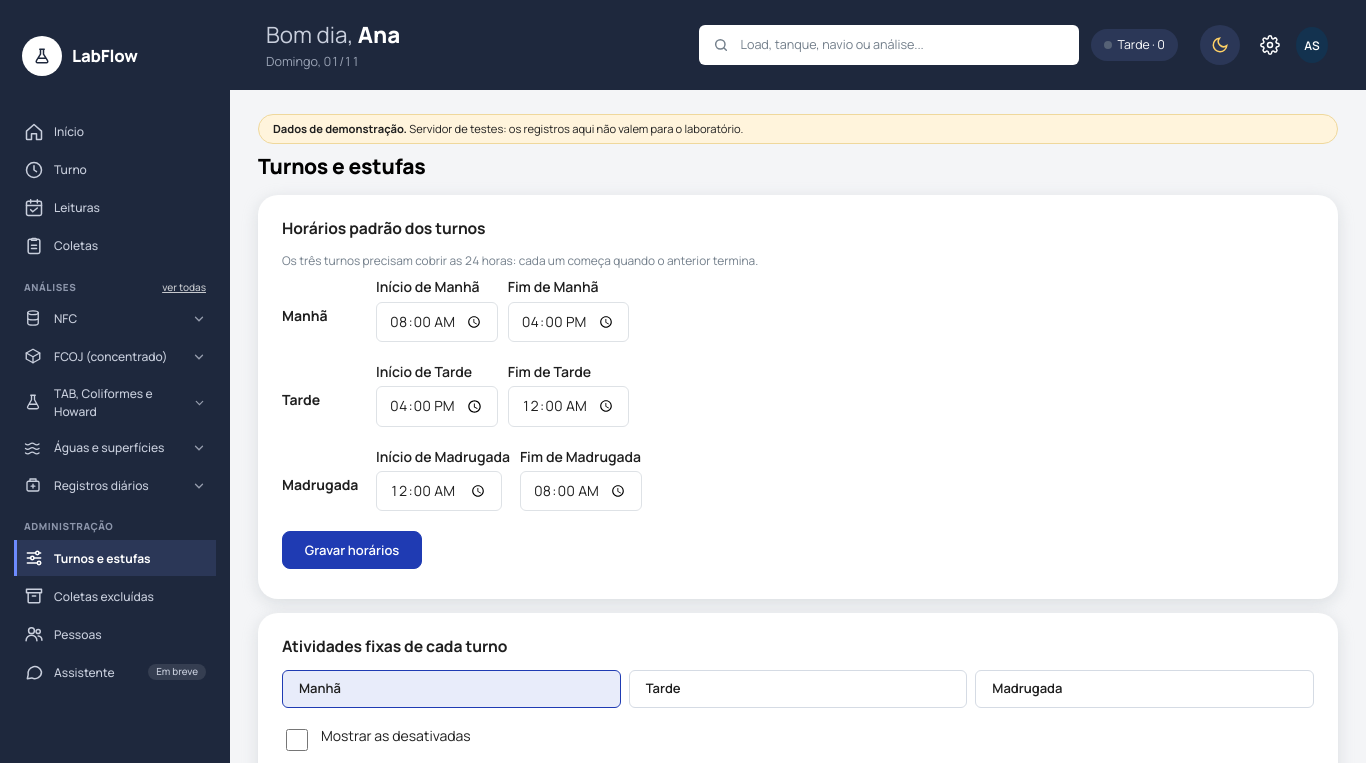
Test case: Admin → Turnos e estufas (APP-028) › lista as atividades do turno (as desativadas só se pedir), com os dias
The width and height of the screenshot is (1366, 763).
Click the checkbox labelled "Mostrar as desativadas" at (297, 740), box [286,729,308,751]
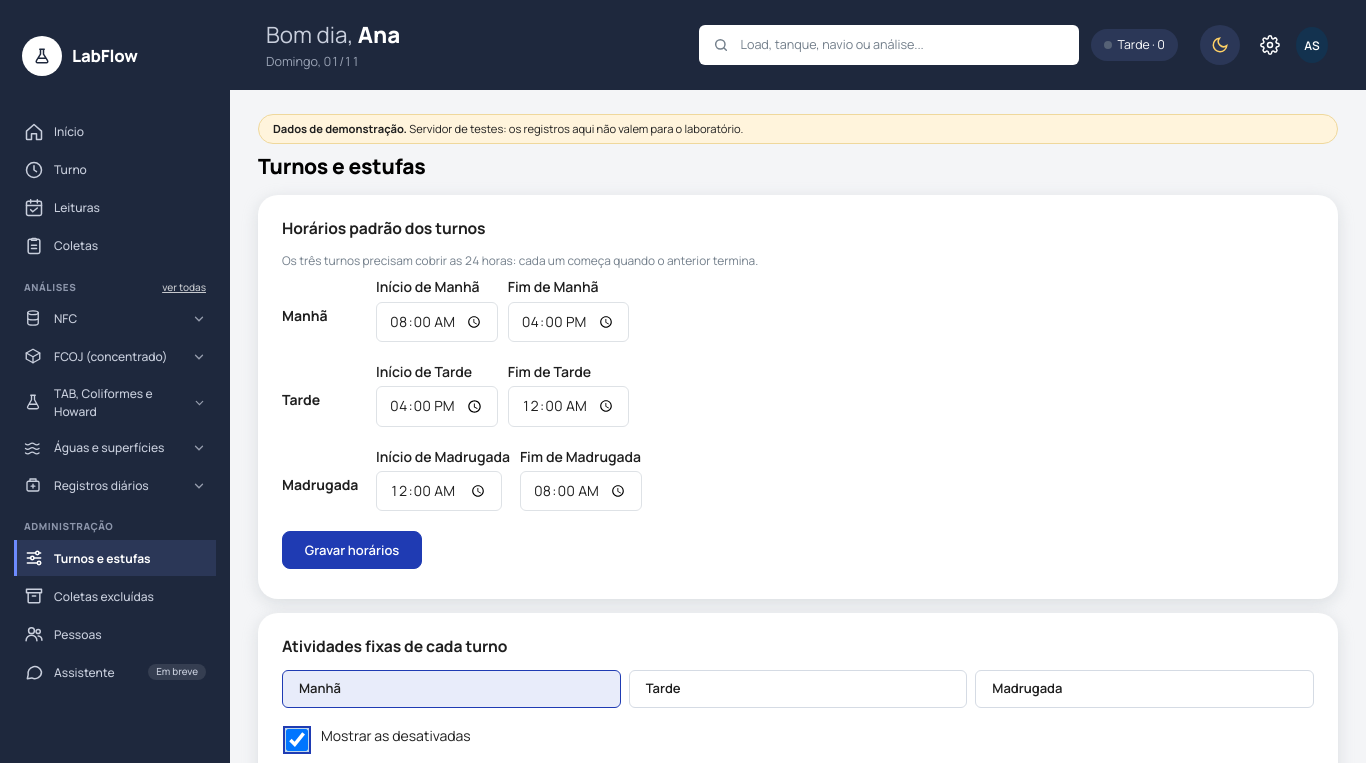
Click the button "Madrugada" at (1027, 688), box [975,670,1314,708]
(page scrolled)
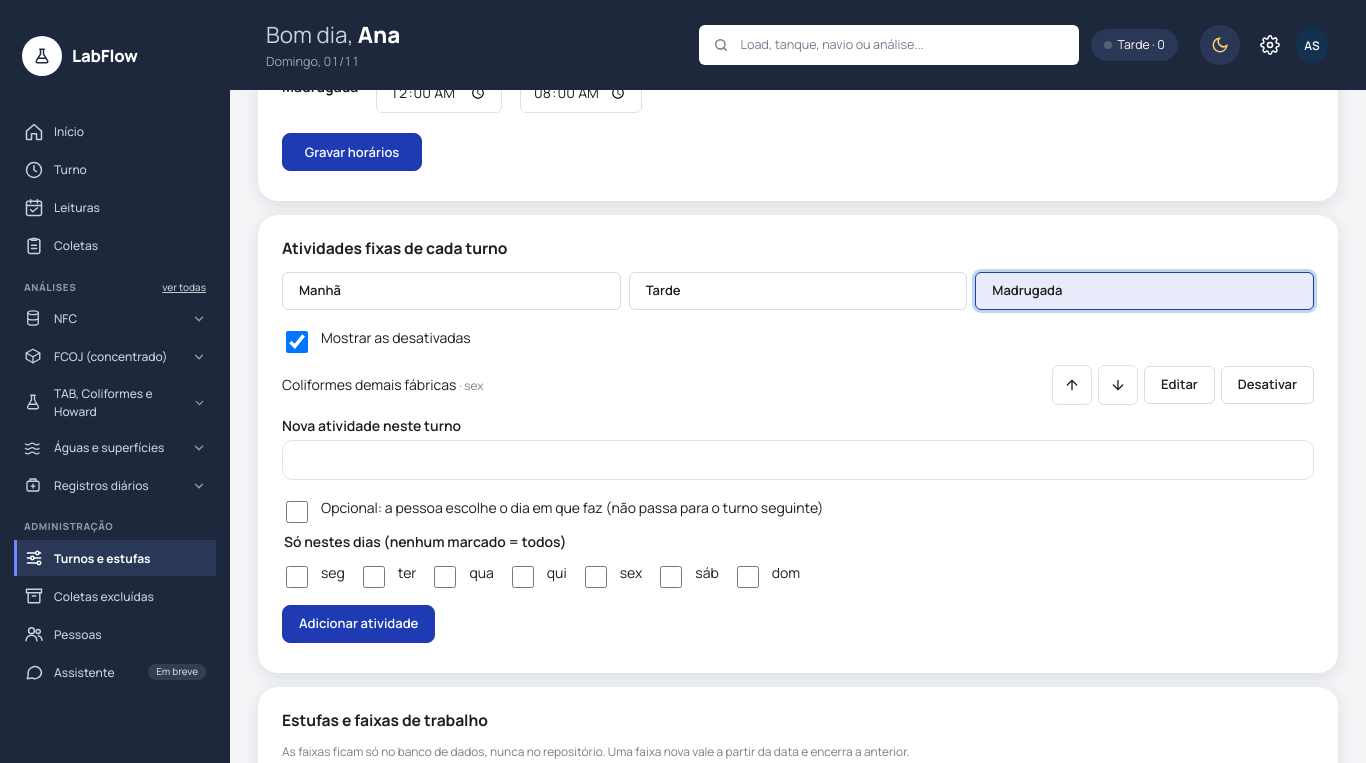
Now the text "Coliformes demais fábricas · sex" is shown, box [282,375,483,395]
